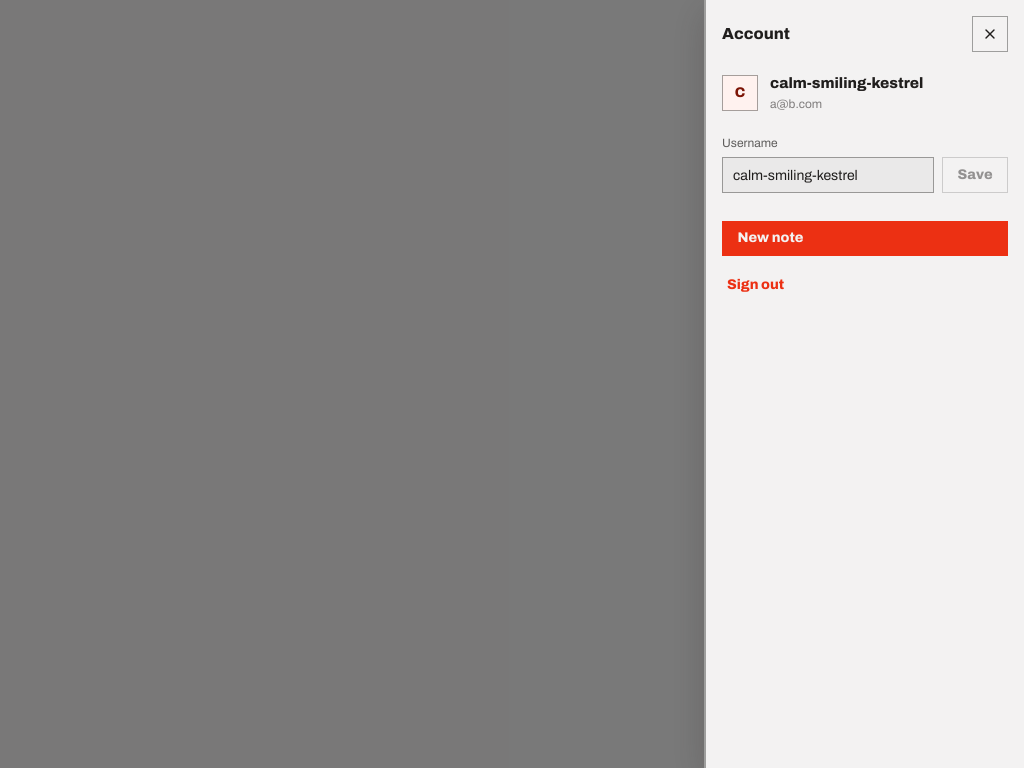
AccountPanel › says why a rename was refused
The width and height of the screenshot is (1024, 768).
Type "x" into the field labelled "Username" at (828, 175), box [722,157,934,193]
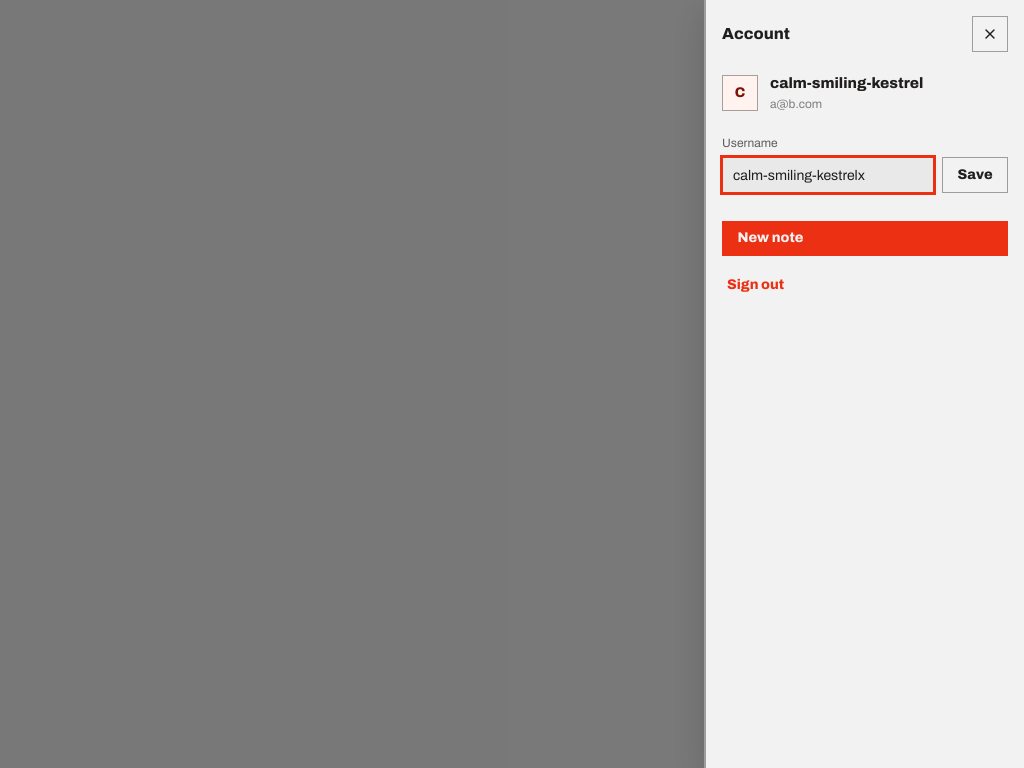
Click the button "Save" at (975, 175), box [942,157,1008,193]
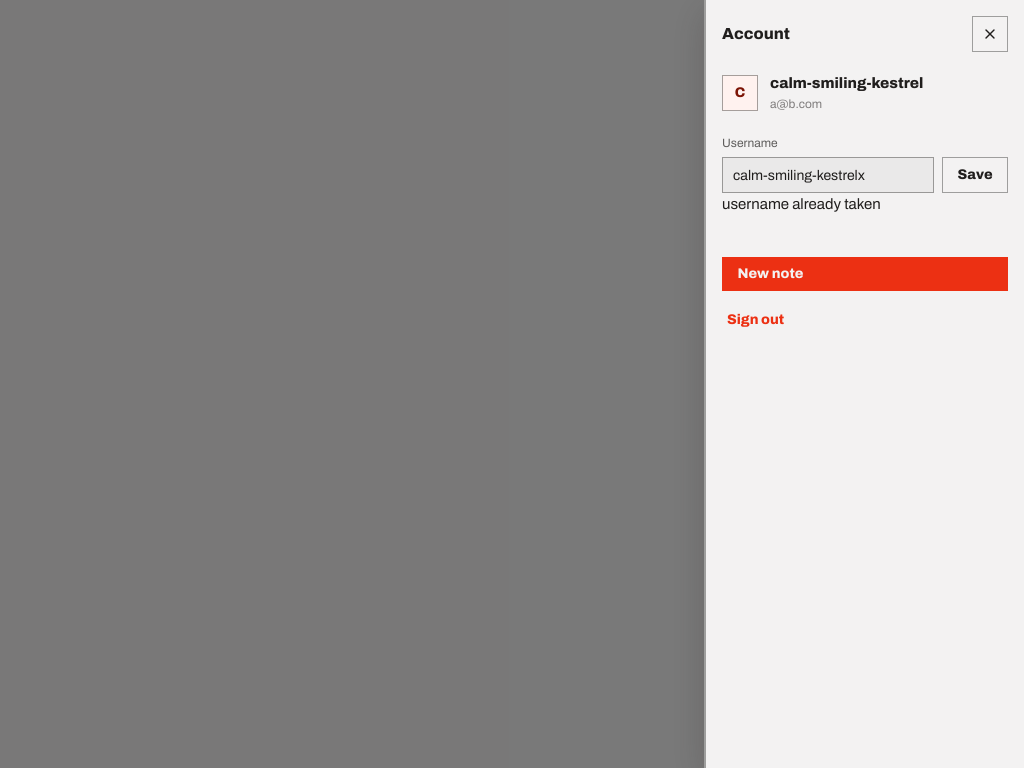
expect the message reads "username already taken": met, box [722,196,881,212]
